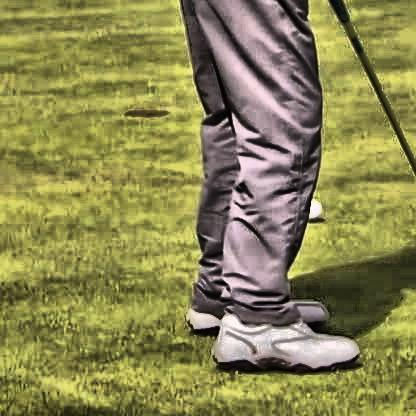golfball: (308, 193, 319, 212)
